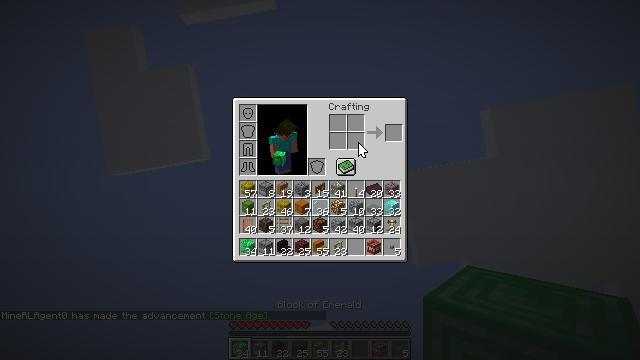cursor: (142, 358, 158, 360)
